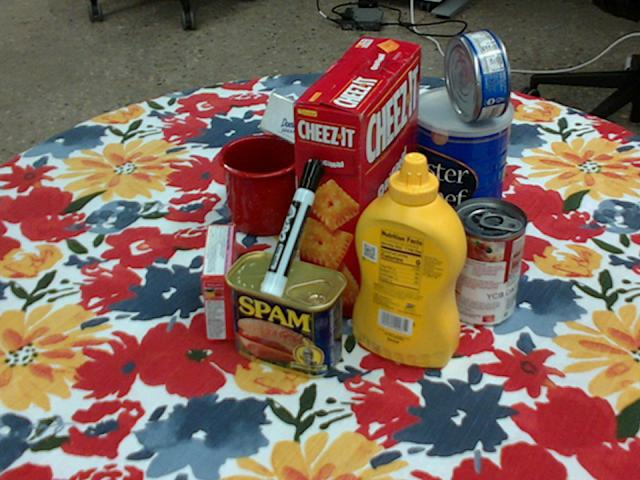cracker_box: (292, 36, 421, 318)
gelatin_box: (202, 223, 237, 339)
large_marker: (261, 157, 324, 297)
master_chef_can: (408, 86, 512, 249)
mug: (219, 134, 329, 237)
mustard_bottle: (352, 152, 467, 368)
potted_meat_can: (226, 251, 347, 378)
sugar_box: (261, 94, 418, 186)
tomato_soup_can: (445, 198, 527, 326)
tuna_fish_can: (442, 29, 510, 121)
